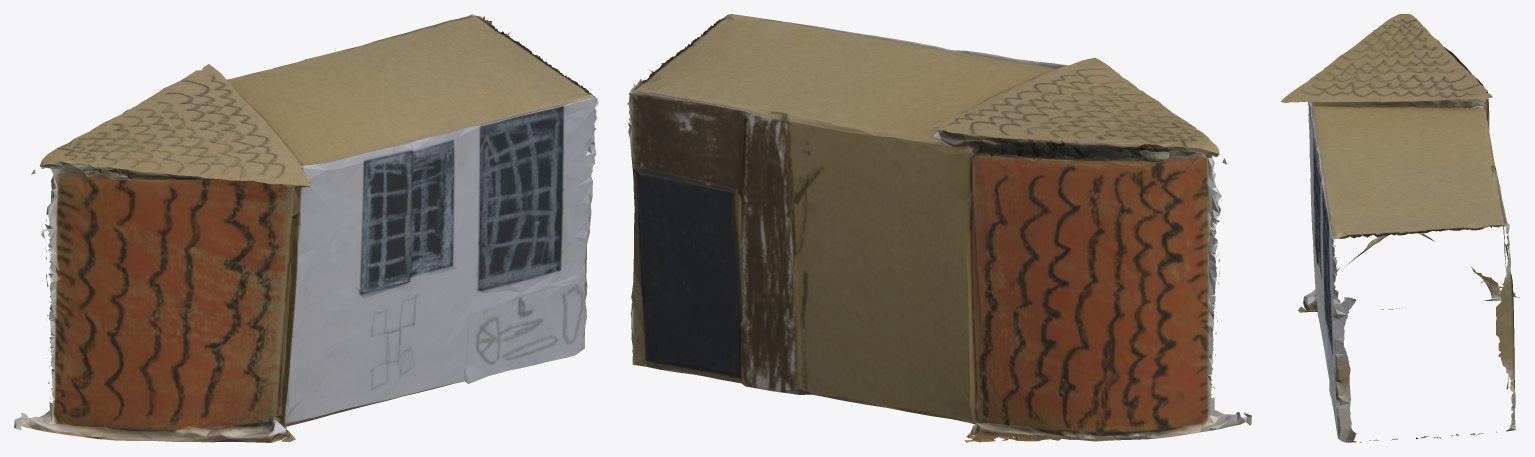
Rendered from m23_5K_1024tex.glb.
3 views of the same model, side by side, from view 1: azimuth 30°, elevation 25°; view 2: azimuth 150°, elevation 25°; view 3: azimuth 270°, elevation 25° (orthographic). The views are drawn at different scales.
Bounding box in the file's own units: 3.25 × 1.66 × 1.53.
1 material, 1 textured.
